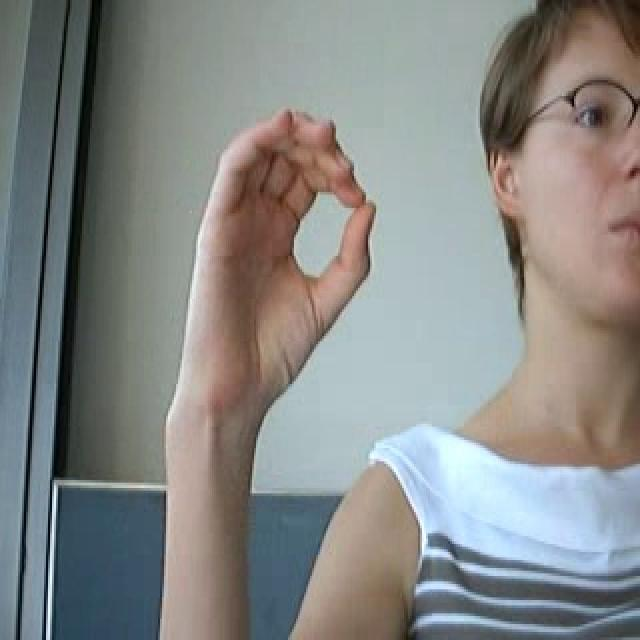O: (172, 91, 390, 425)
